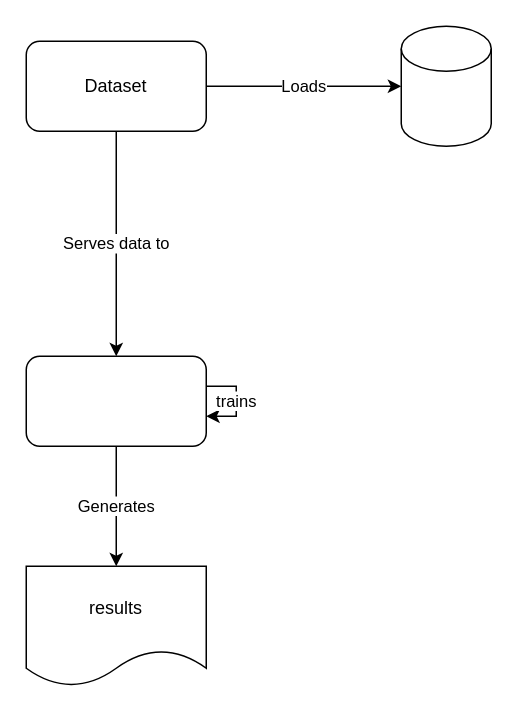
The diagram is 518 pixels wide and 713 high, and some of its shapes have lost their labels. The shapes that lost their labels are listed below. From the top down, each one's centre as x and y in pixels, then its label:
the point at 445,85: Database
the point at 115,400: Model
